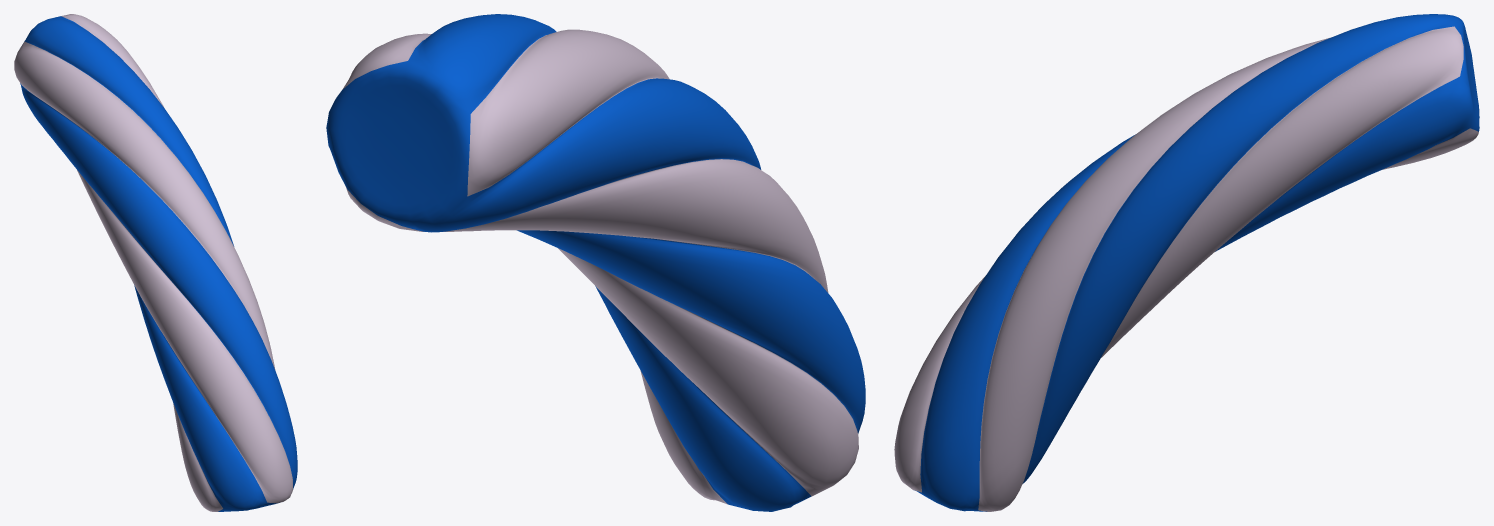
File: twister_002.obj
3 renders of one model, left to right at view 1: azimuth 30°, elevation 25°; view 2: azimuth 150°, elevation 25°; view 3: azimuth 270°, elevation 25°, orthographic. The views are drawn at different scales.
Parts seen in each view (by area): view 1: twister.002; view 2: twister.002; view 3: twister.002.
Boxes of the visible parts, <box> form: twister.002: <box>14,14,297,511</box>; twister.002: <box>326,14,865,511</box>; twister.002: <box>894,14,1479,511</box>.
Size of the model in its own units: 0.2159 by 0.753 by 0.8348.
